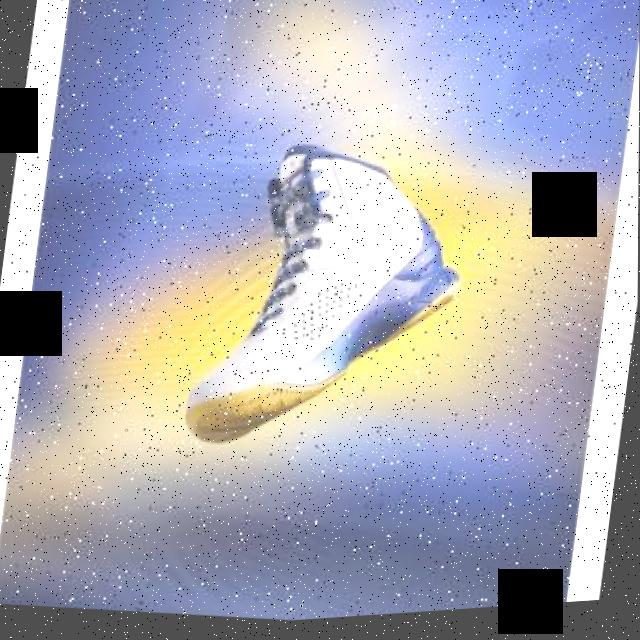shoe: (183, 128, 474, 474)
